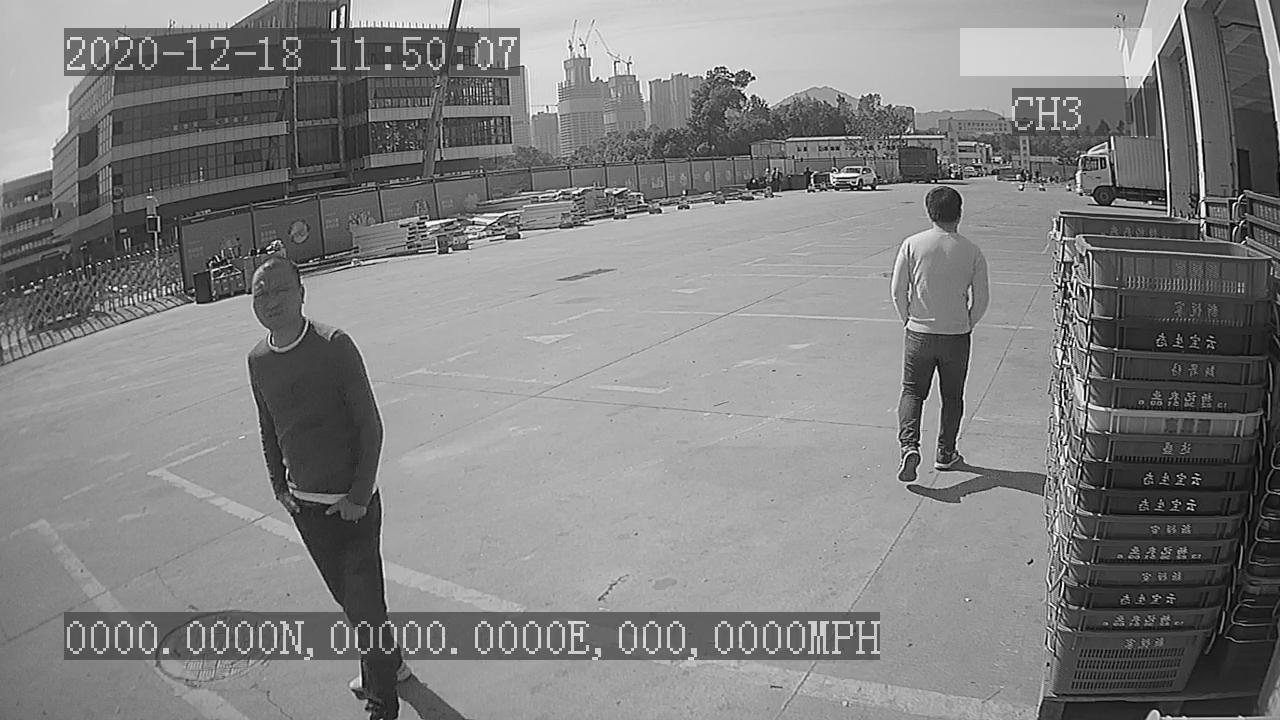person: (886, 183, 992, 488)
